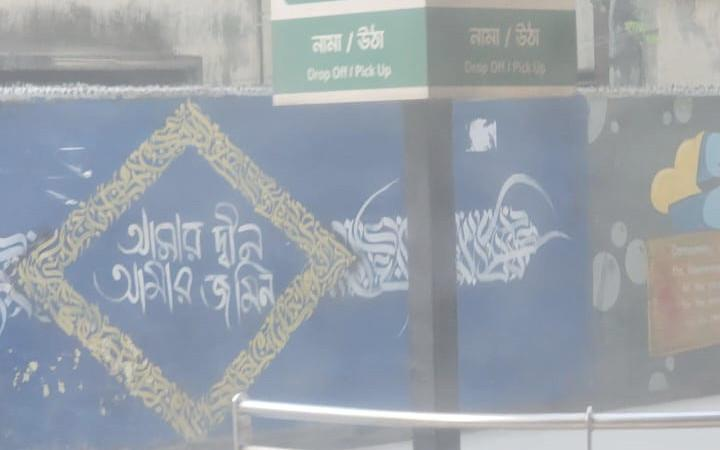Metro Dorp Up Pick up: (261, 0, 576, 100)
